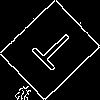T: (24, 24, 79, 79)
